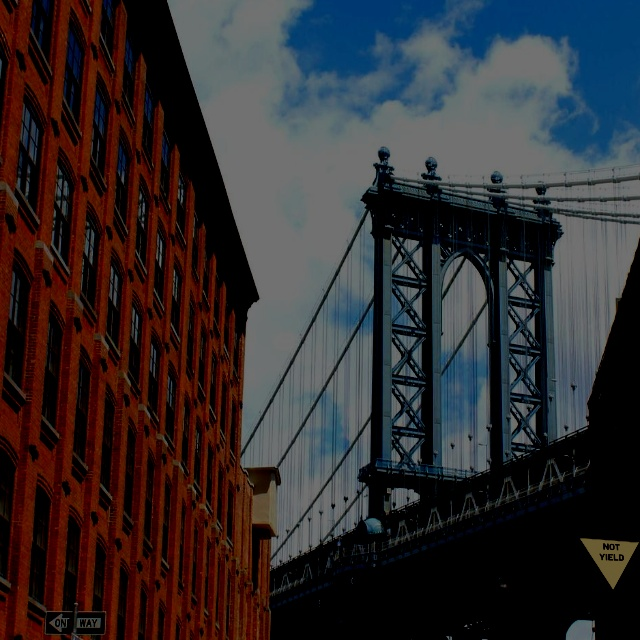NOT_YIELD: (578, 537, 640, 591)
